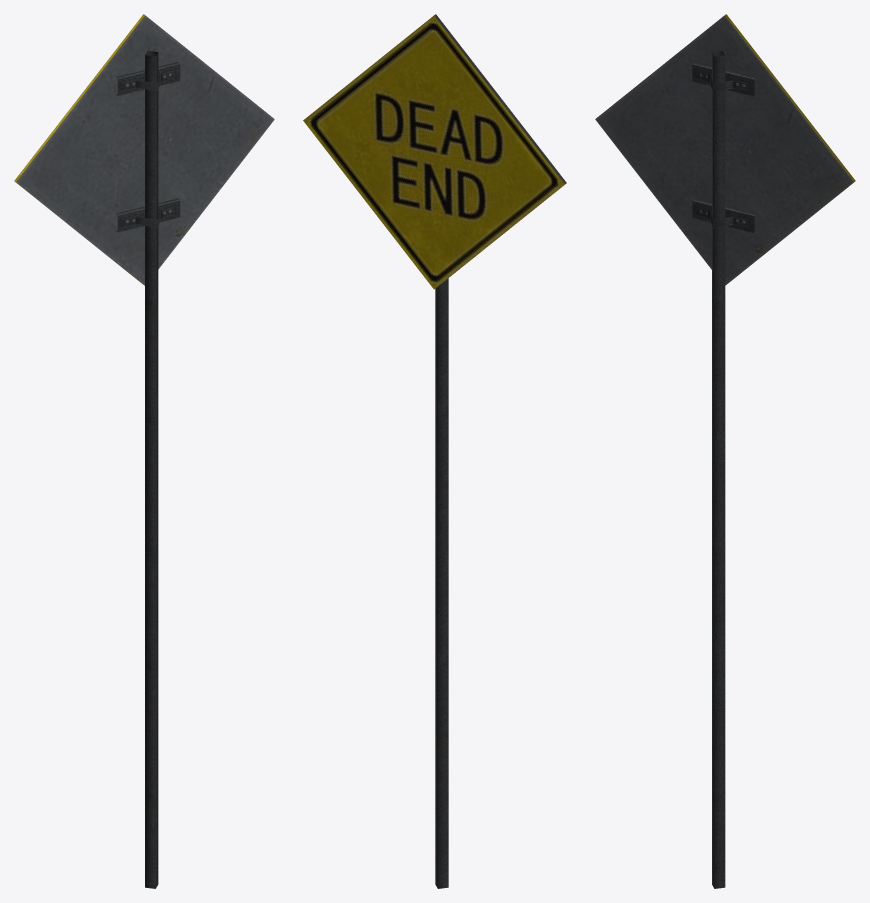
File: Dead_End.glb
The picture shows the model from 3 angles, left to right: view 1: azimuth 30°, elevation 25°; view 2: azimuth 150°, elevation 25°; view 3: azimuth 330°, elevation 25°; orthographic projection.
Visible parts, largest first — view 1: Dead_End__LOD1; view 2: Dead_End__LOD1; view 3: Dead_End__LOD1.
Part boxes in pixels (x1,y1,x2,y2): Dead_End__LOD1: (14, 14, 274, 888); Dead_End__LOD1: (303, 14, 566, 888); Dead_End__LOD1: (595, 14, 855, 888).
Bounding box in the file's own units: 0.9743 × 3.11 × 0.0893.
1 material, 1 textured.
